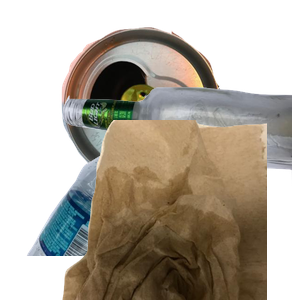glass: (60, 84, 300, 260)
metal: (59, 10, 273, 189)
plastic: (24, 120, 182, 300)
trash: (60, 120, 300, 300)
